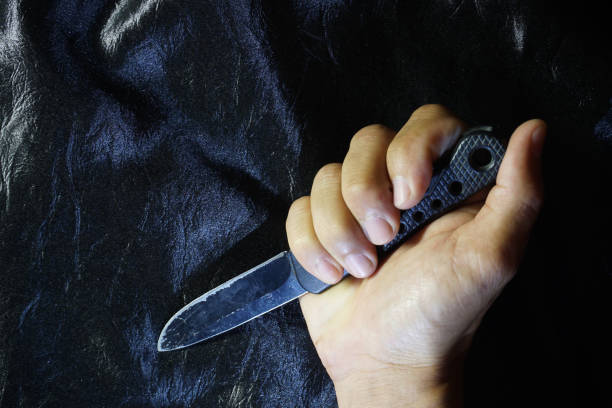knife: (155, 127, 510, 353)
